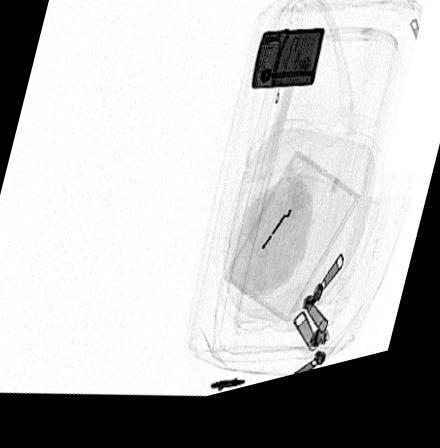Lighter: (252, 42, 326, 102)
